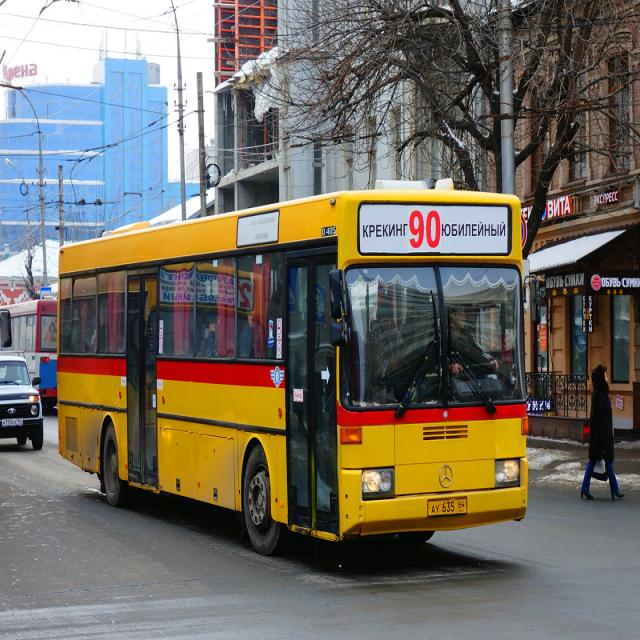number-of-bus: (408, 208, 442, 254)
